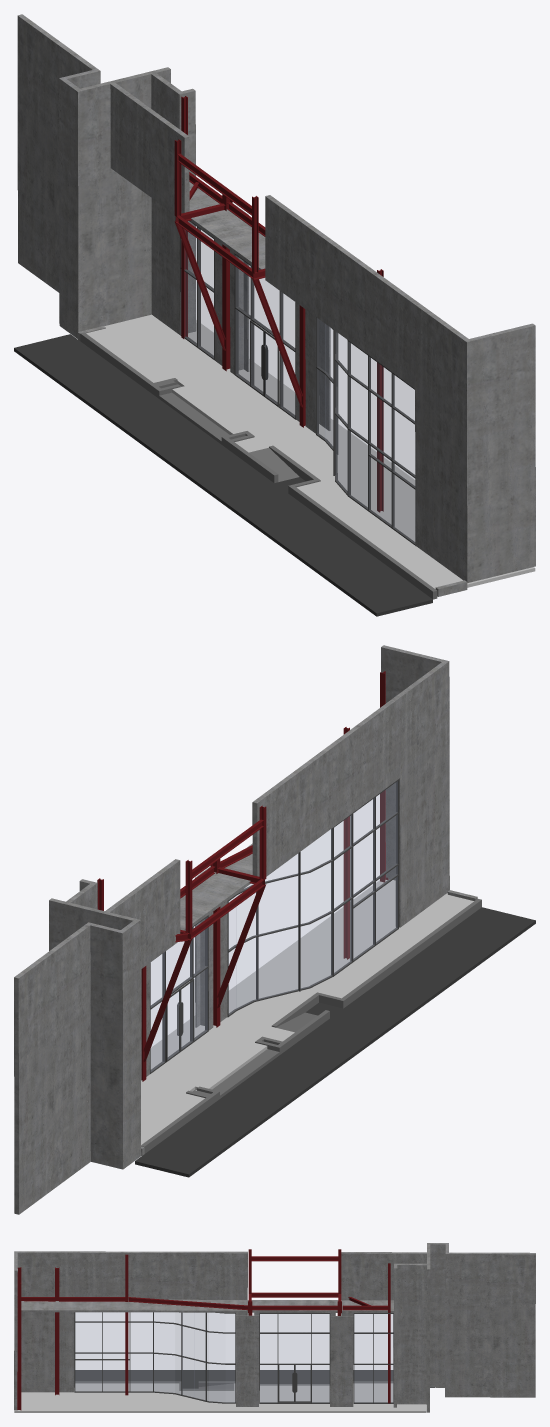
File: AIGC.YY_006AniE.glb
3 views of the same model, one above another, from view 1: azimuth 30°, elevation 25°; view 2: azimuth 150°, elevation 25°; view 3: azimuth 270°, elevation 25° (orthographic). The views are drawn at different scales.
Parts seen in each view (by area): view 1: Wall- 15cm:260380, 樓板, IfcWindow/Swin:Swin:Glass, IfcColumn/H 型鋼柱:H200x200 2:274339, IfcWindow/Swin:Swin:317530; view 2: Wall- 15cm:260380, 樓板, IfcWindow/Swin:Swin:Glass, IfcColumn/H 型鋼柱:H200x200 2:274339, IfcWindow/Swin:Swin:317530; view 3: Wall- 15cm:260380, IfcWindow/Swin:Swin:Glass, 樓板, IfcColumn/H 型鋼柱:H200x200 2:274339, IfcWindow/Swin:Swin:317530.
Part boxes in pixels (box(x1,y1,x2,y2)): Wall- 15cm:260380: box(17, 14, 535, 596); 樓板: box(14, 314, 535, 616); IfcWindow/Swin:Swin:Glass: box(184, 221, 414, 543); IfcColumn/H 型鋼柱:H200x200 2:274339: box(174, 96, 383, 512); IfcWindow/Swin:Swin:317530: box(180, 220, 415, 545); Wall- 15cm:260380: box(14, 645, 477, 1214); 樓板: box(135, 880, 535, 1177); IfcWindow/Swin:Swin:Glass: box(151, 781, 397, 1071); IfcColumn/H 型鋼柱:H200x200 2:274339: box(97, 671, 388, 1081); IfcWindow/Swin:Swin:317530: box(150, 779, 398, 1073); Wall- 15cm:260380: box(14, 1243, 535, 1412); IfcWindow/Swin:Swin:Glass: box(75, 1312, 392, 1402); 樓板: box(14, 1370, 434, 1412); IfcColumn/H 型鋼柱:H200x200 2:274339: box(17, 1249, 390, 1410); IfcWindow/Swin:Swin:317530: box(74, 1312, 393, 1403).
Size of what is drawn, in the model's own units: 7.44 by 11.28 by 36.47.
7 materials, 1 textured.
